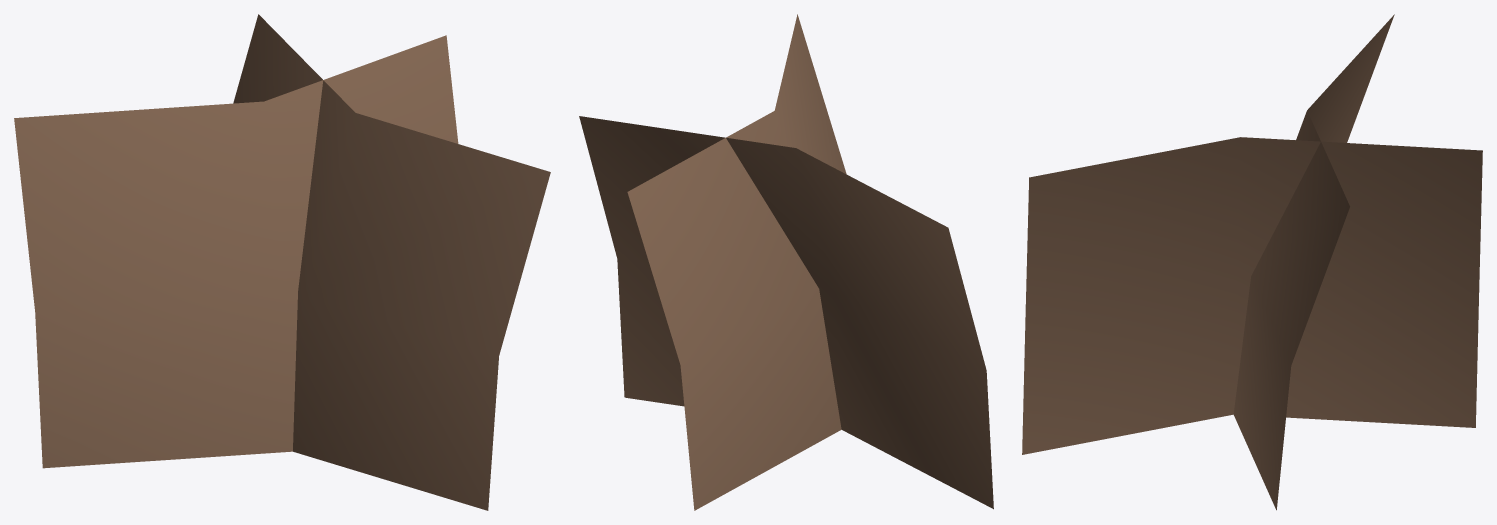
The model's file is GrassPlanes_b_TwoS_02.fbx.
3 views of the same model, side by side, from view 1: azimuth 30°, elevation 25°; view 2: azimuth 150°, elevation 25°; view 3: azimuth 270°, elevation 25° (orthographic). The views are drawn at different scales.
Parts seen in each view (by area): view 1: GrassPlanes_b_TwoS_02; view 2: GrassPlanes_b_TwoS_02; view 3: GrassPlanes_b_TwoS_02.
Part boxes in pixels (left/top/right/bottom): GrassPlanes_b_TwoS_02: left=14, top=14, right=550, bottom=510; GrassPlanes_b_TwoS_02: left=579, top=14, right=993, bottom=510; GrassPlanes_b_TwoS_02: left=1022, top=14, right=1482, bottom=510.
Bounding box in the file's own units: 75.33 × 55 × 74.4.
